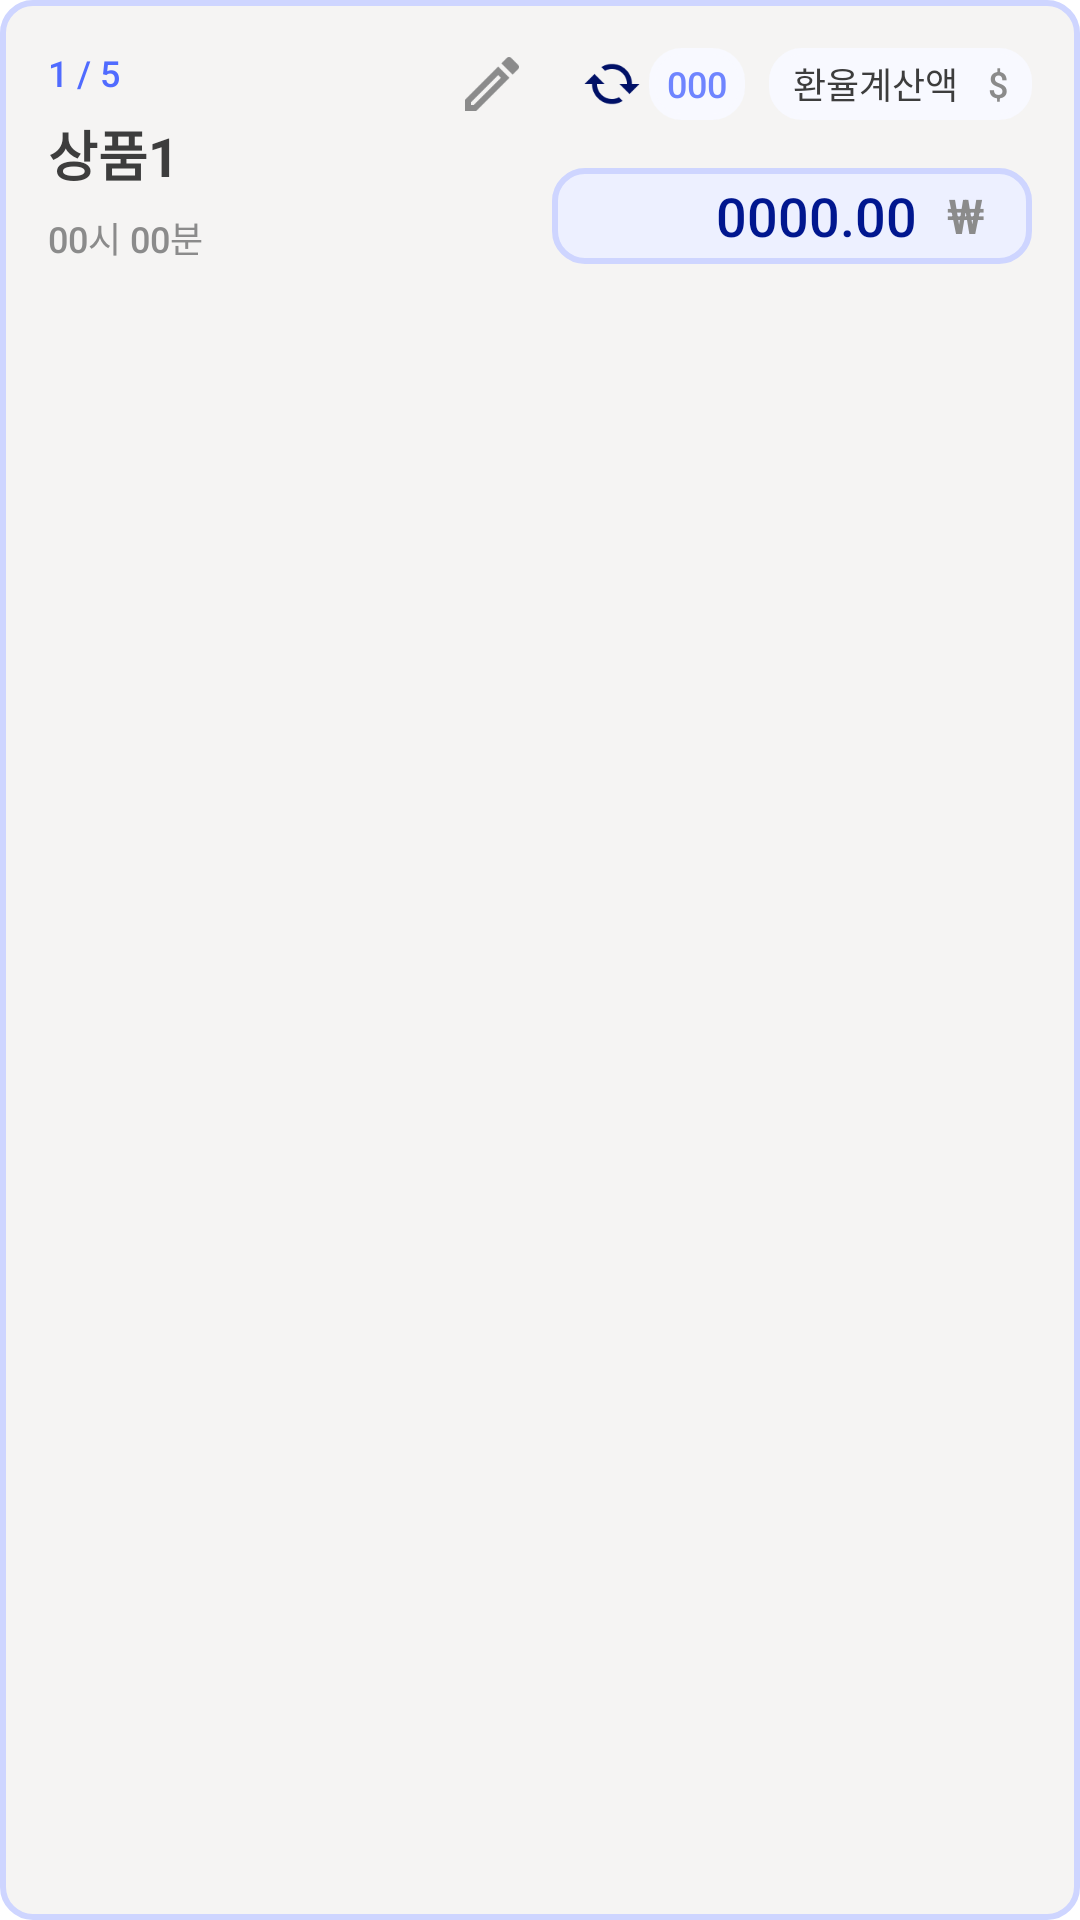

Icon bounding boxes for this 1080×1920 phone screenshot, format (x1,y1,x2,y2):
change: (465,57,519,111), (584,63,640,105)
